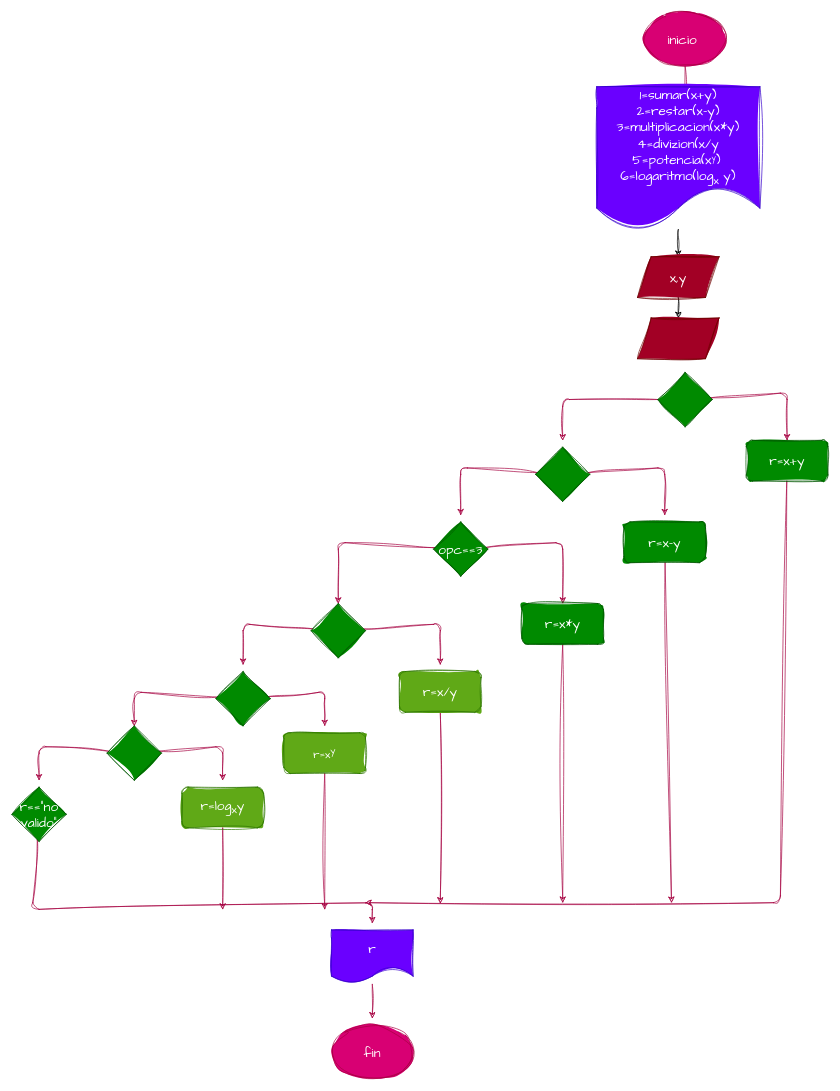
The diagram is 840 pixels wide and 1091 high, and some of its shapes have lost their labels. The centre of each missing label's shape, as x and y in pixels:
"opc" belongs at point (678, 338).
"opc==1" belongs at point (684, 399).
"opc==2" belongs at point (562, 474).
"opc==4" belongs at point (338, 630).
"opc==5" belongs at point (242, 698).
"opc==6" belongs at point (134, 752).
